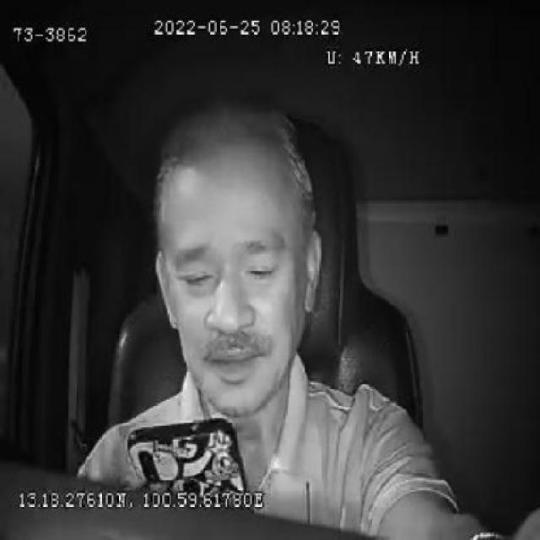phone: (127, 417, 247, 489)
